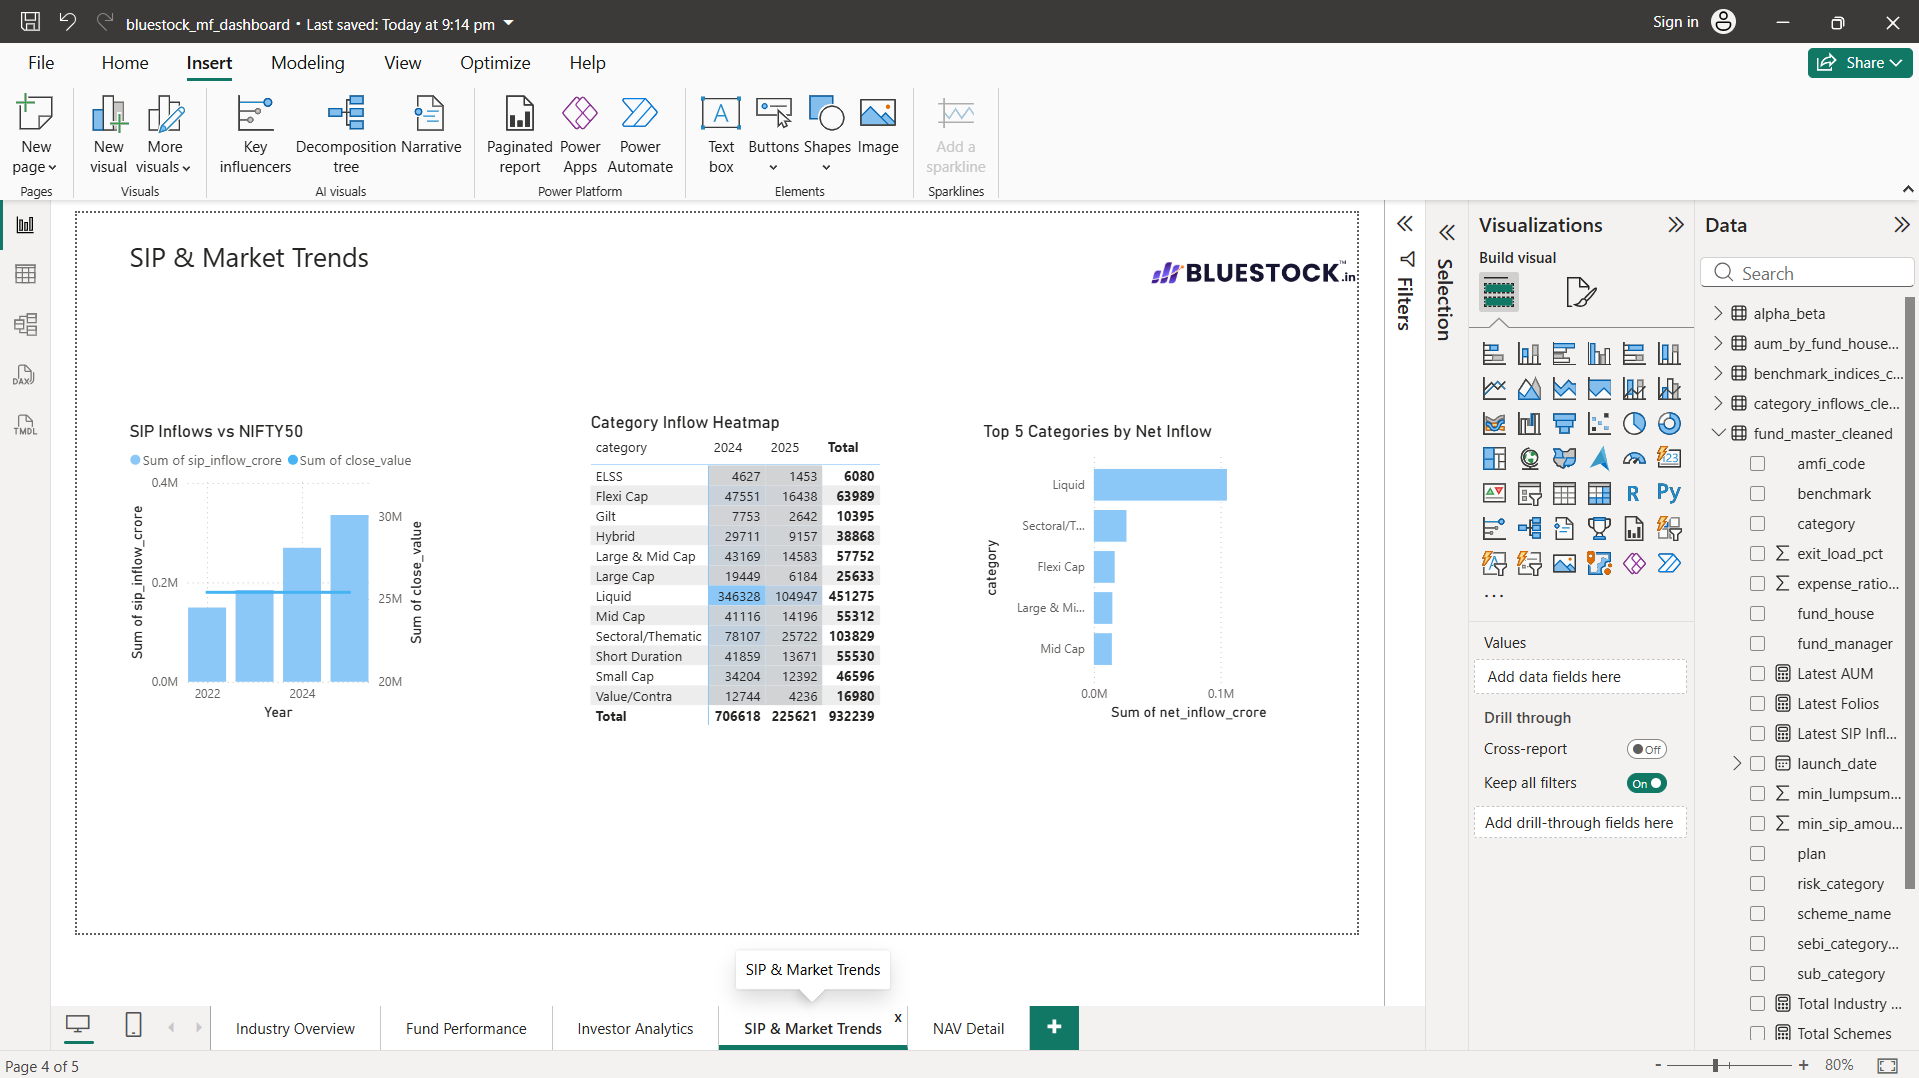

The page's visual inventory and layout, read from the dashboard file:
{"tool":"powerbi","page":{"name":"SIP & Market Trends","canvas":[1280,720],"ordinal":3},"visuals":[{"type":"lineClusteredColumnComboChart","title":"SIP Inflows vs NIFTY50","fields":{"Category":["monthly_sip_inflows_cleaned.month.Variation.Date Hierarchy.Year","monthly_sip_inflows_cleaned.month.Variation.Date Hierarchy.Quarter","monthly_sip_inflows_cleaned.month.Variation.Date Hierarchy.Month","monthly_sip_inflows_cleaned.month.Variation.Date Hierarchy.Day"],"Y":["Sum(monthly_sip_inflows_cleaned.sip_inflow_crore)"],"Y2":["Sum(benchmark_indices_cleaned.close_value)"]},"box":[47.5,207.5,305,305],"z":0},{"type":"pivotTable","title":"Category Inflow Heatmap","fields":{"Rows":["category_inflows_cleaned.category"],"Columns":["category_inflows_cleaned.month.Variation.Date Hierarchy.Year","category_inflows_cleaned.month.Variation.Date Hierarchy.Quarter","category_inflows_cleaned.month.Variation.Date Hierarchy.Month","category_inflows_cleaned.month.Variation.Date Hierarchy.Day"],"Values":["Sum(category_inflows_cleaned.net_inflow_crore)"]},"box":[508.8,198.8,352.5,321.2],"z":1000},{"type":"clusteredBarChart","title":"Top 5 Categories by Net Inflow","fields":{"Category":["category_inflows_cleaned.category"],"Y":["Sum(category_inflows_cleaned.net_inflow_crore)"]},"box":[901.2,207.5,325,305],"z":2000},{"type":"image","box":[1073.8,0,206.2,117.5],"z":3000},{"type":"textbox","box":[47.5,20,270,51.2],"z":3001}]}

Visuals, with their boxes on the page's 1280x720 design canvas (x1, y1, x2, y2). These are canvas units, not pixel positions in the 1919x1078 screenshot, which may show the page scaled, cropped or inside an application window:
"SIP Inflows vs NIFTY50" lineClusteredColumnComboChart: 48/208/352/512
"Category Inflow Heatmap" pivotTable: 509/199/861/520
"Top 5 Categories by Net Inflow" clusteredBarChart: 901/208/1226/512
image: 1074/0/1280/118
textbox: 48/20/318/71
